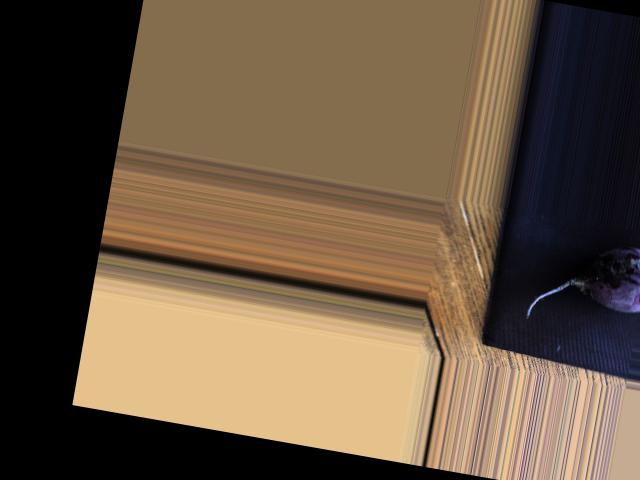beet: (525, 230, 640, 336)
